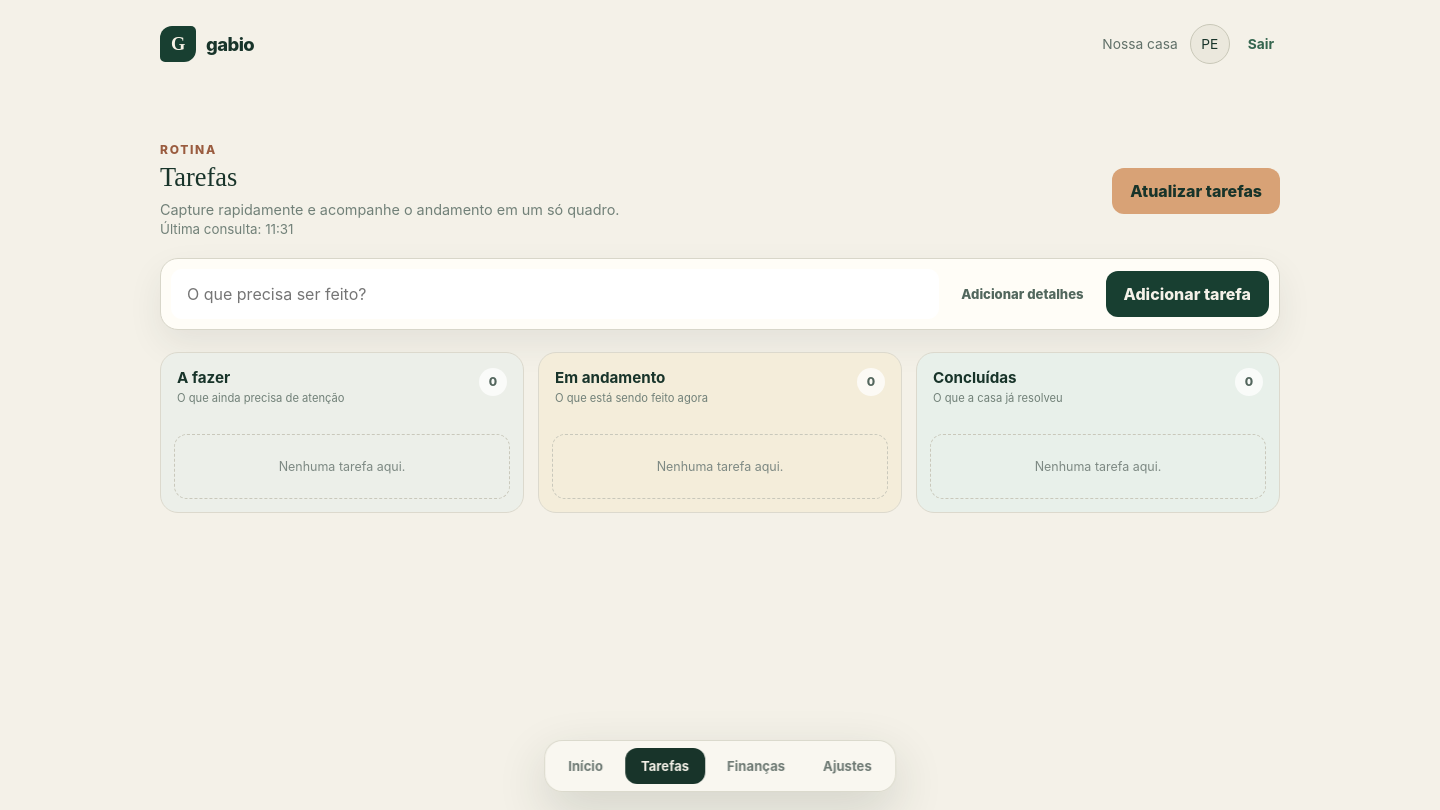
Test: App › distinguishes a confirmed command from a failed follow-up read
Check: the button "Atualizar tarefas" is enabled, box [1112,168,1280,214]
Type "Confirmada no servidor" into the field named "Título da tarefa" at (555, 294), box [171,269,939,319]
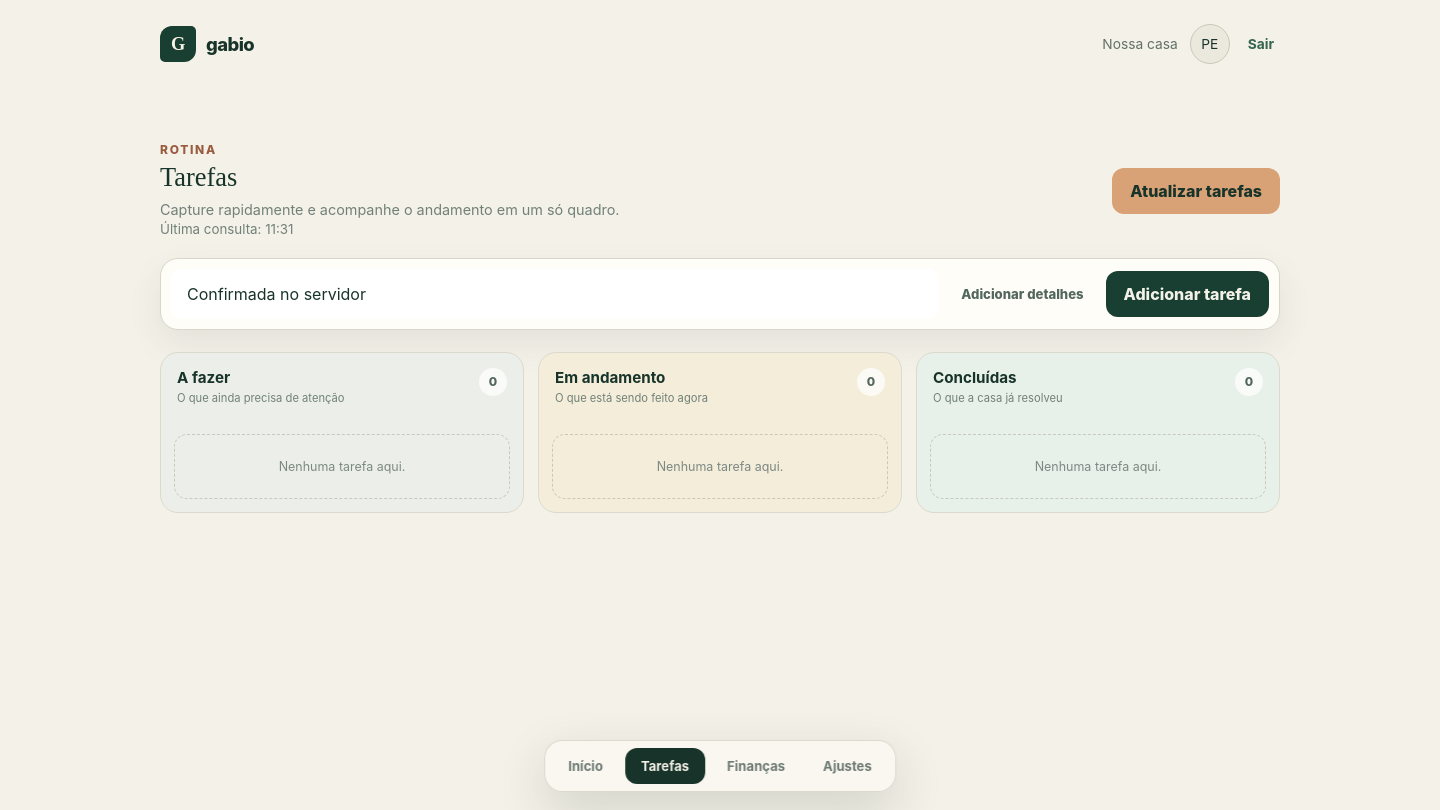
Click the button "Adicionar tarefa" at (1187, 294), box [1106,271,1269,317]
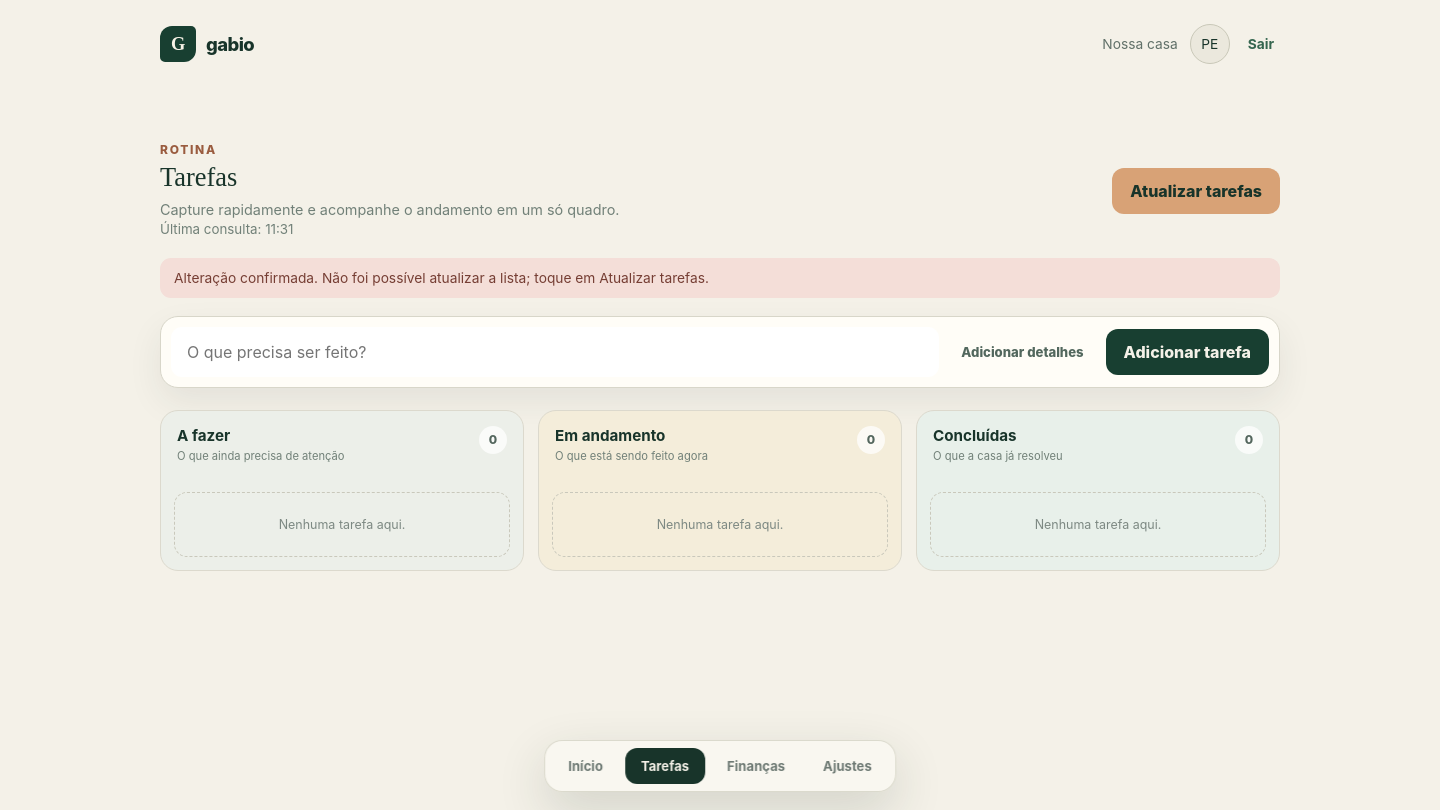
Check: the text "Alteração confirmada. Não foi possível atualizar a lista; toque em Atualizar tarefas." is shown, box [174,270,709,286]
